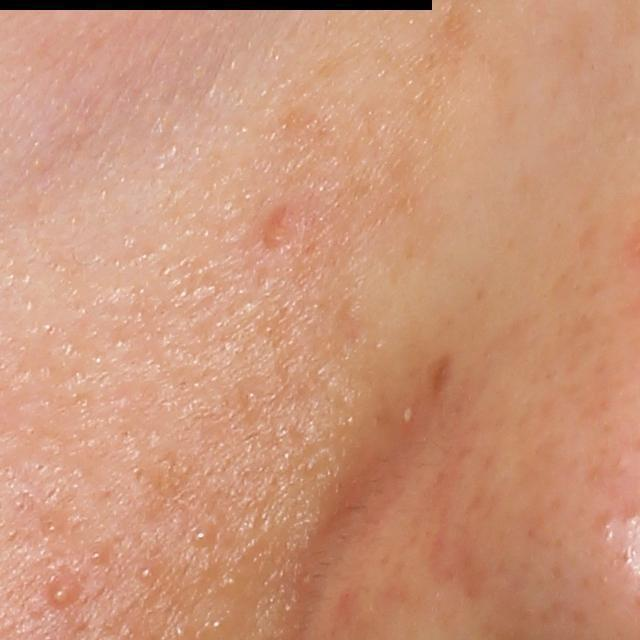comedo: (131, 561, 158, 584), (192, 525, 216, 548), (89, 547, 108, 564), (172, 621, 187, 638)
papule: (253, 198, 298, 254)
pustule: (42, 573, 85, 607)
